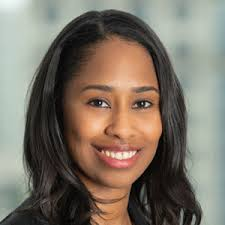person: (28, 7, 188, 189)
